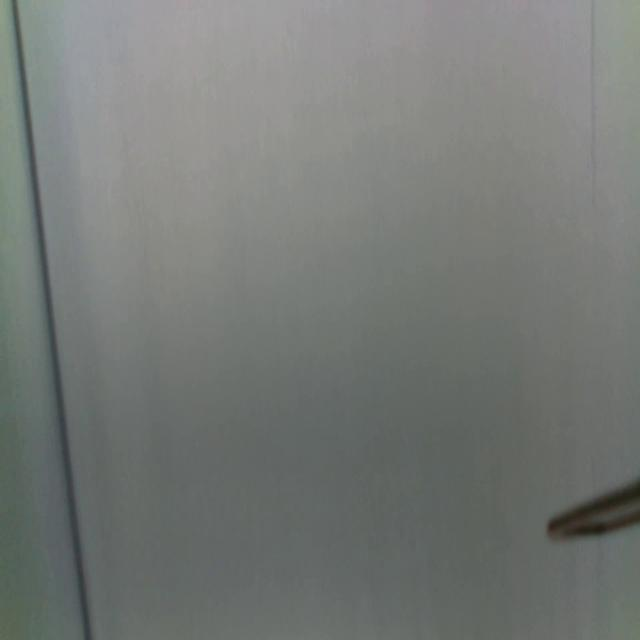crease: (12, 1, 92, 640), (587, 0, 600, 204)
